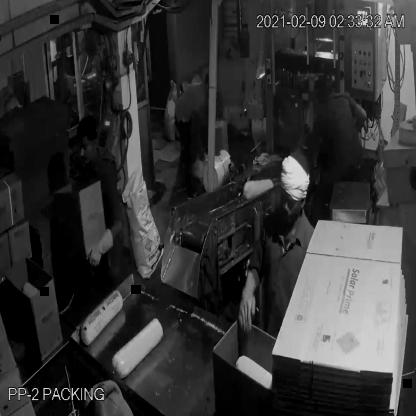glove: (78, 217, 115, 271), (237, 265, 261, 334)
no_glove: (188, 99, 207, 170)
